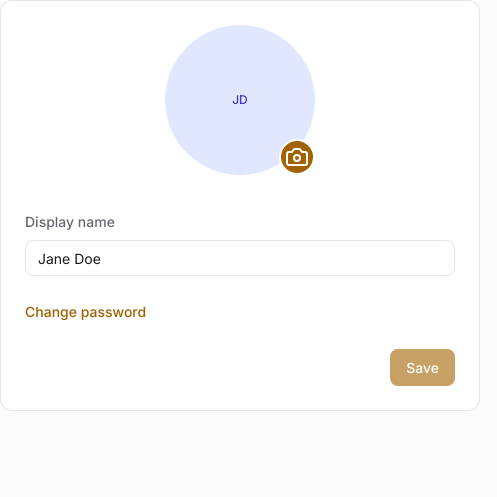
Test: ProfileForm save outcomes › should show the error banner when updateProfile fails
The width and height of the screenshot is (497, 497).
Replace the text in the field labelled "Display name" with "Jane Smith" at (240, 258), box [25,240,455,276]
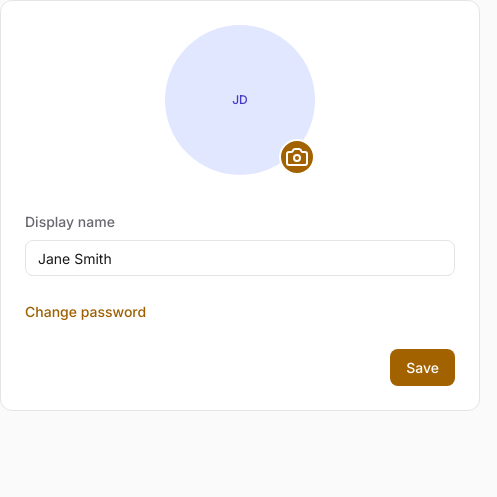
Click the button "Save" at (423, 367), box [390,348,455,386]
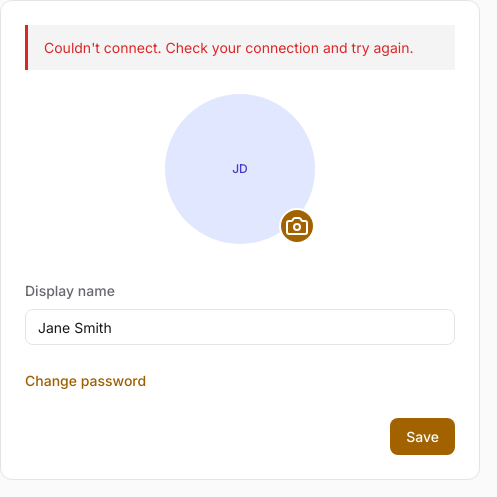
Expected: the text "Couldn't connect. Check your connection and try again." is shown, [25,25,455,70]
